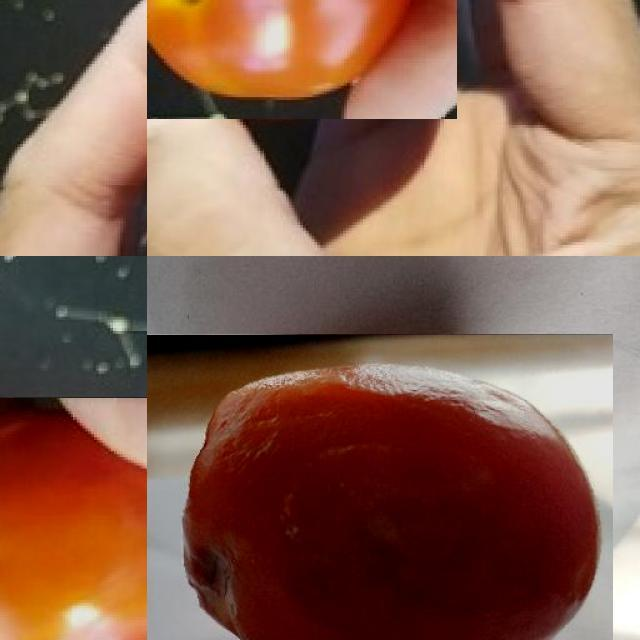Fresh Tomato: (147, 0, 456, 118), (0, 397, 147, 640)
Rotten Tomato: (147, 334, 612, 640)
